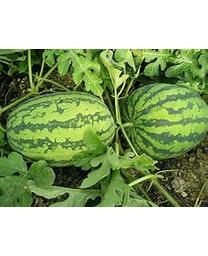watermelon: (6, 91, 116, 165), (123, 82, 207, 159)
